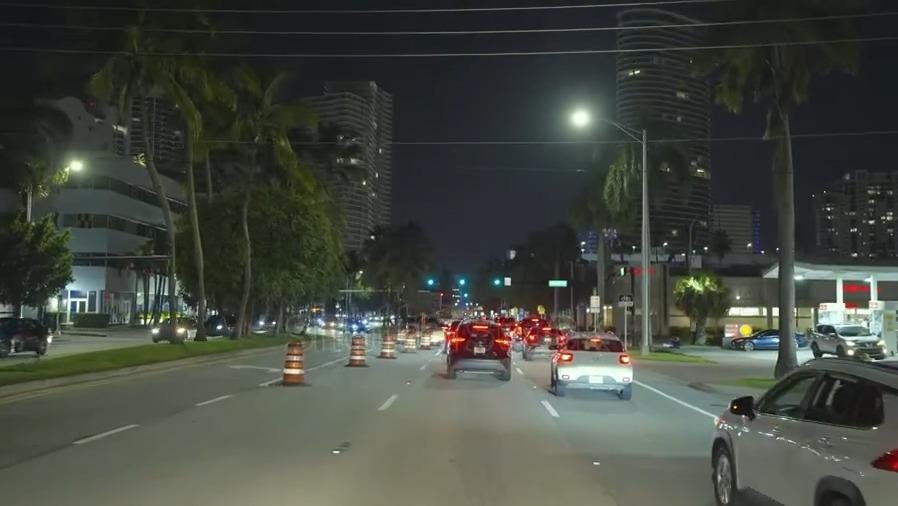car: (712, 363, 898, 506), (549, 332, 635, 402), (442, 318, 511, 382), (811, 321, 887, 362), (0, 314, 58, 359), (732, 327, 808, 350), (148, 313, 199, 339), (204, 311, 235, 339)
cone: (279, 337, 307, 387), (348, 332, 366, 367), (380, 331, 394, 358), (404, 328, 415, 351)
wheel: (711, 439, 739, 504)
